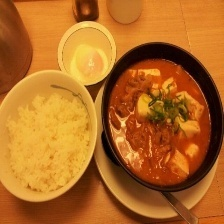rice: (1, 91, 93, 194)
